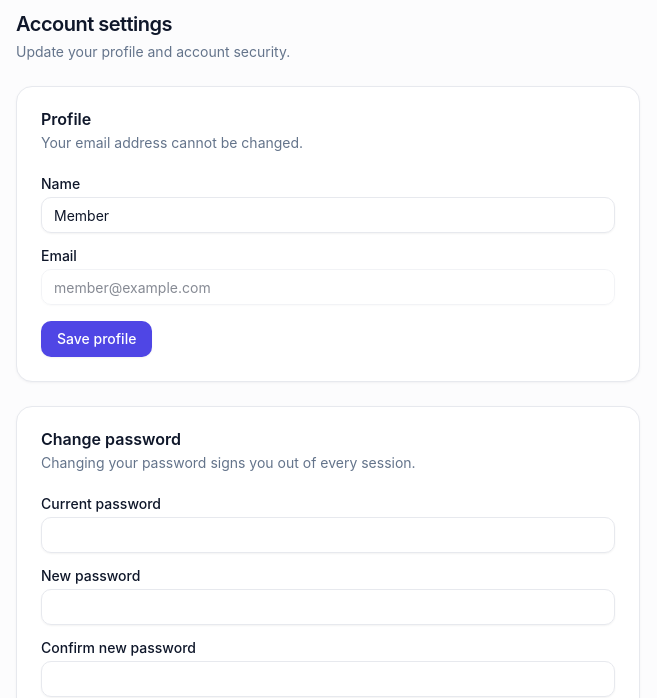
Test: SettingsClient validation › rejects an empty profile name before making a request
The width and height of the screenshot is (657, 698).
Clear the field labelled "Name": x=328, y=215 left=41, top=197, right=615, bottom=233
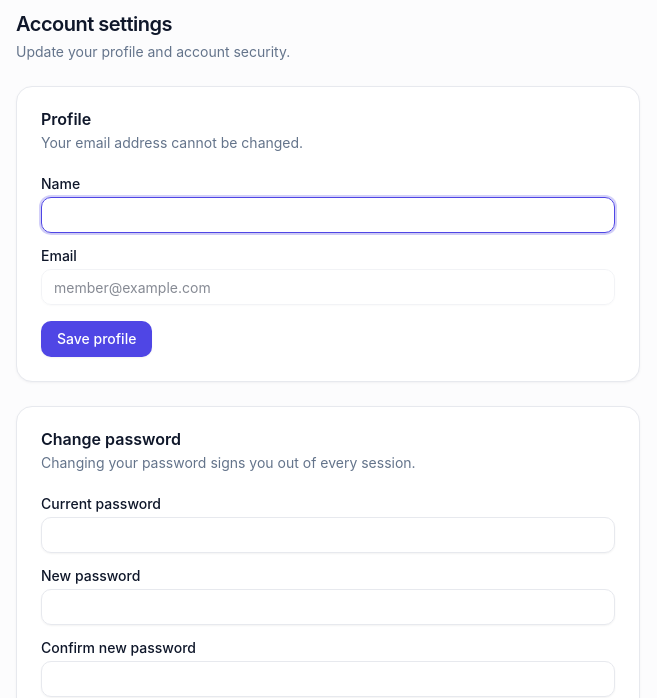
Click the button "Save profile": x=97, y=339 left=41, top=321, right=152, bottom=357
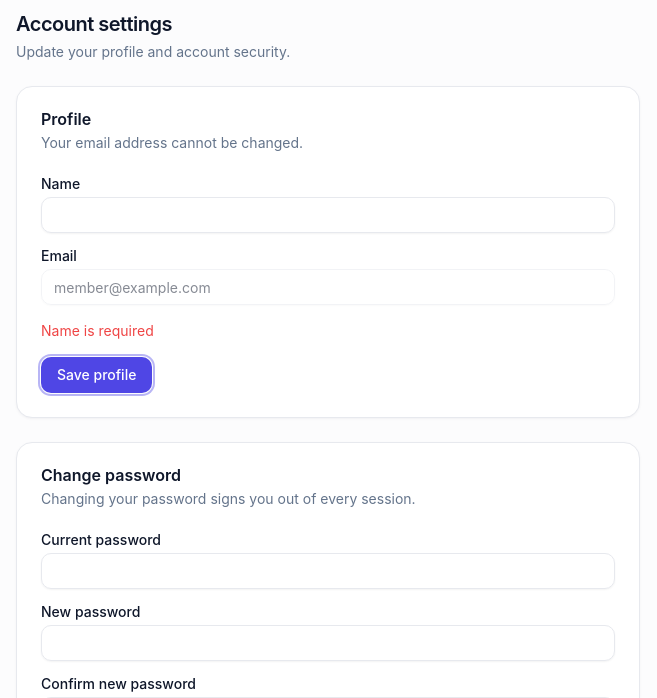
Expected: the text "Name is required" is shown, left=41, top=322, right=154, bottom=339
